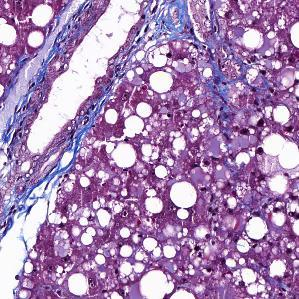fibrosis: (141, 0, 212, 48)
